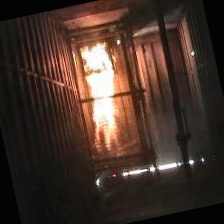fire: (73, 37, 133, 158)
